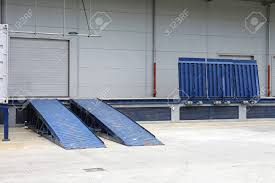Yard Ramp: (28, 98, 166, 152)
